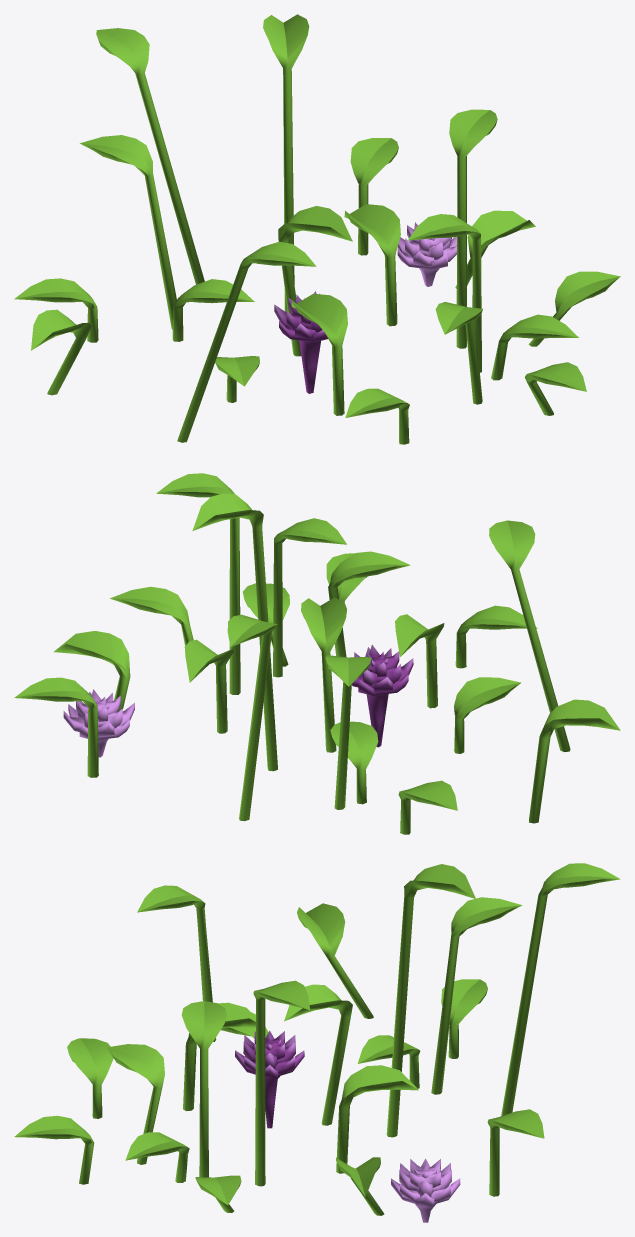
Rendered from Vegetacao-Meia-Noite-Tipo01.fbx.
3 renders of one model, top to bottom at view 1: azimuth 30°, elevation 25°; view 2: azimuth 150°, elevation 25°; view 3: azimuth 270°, elevation 25°, orthographic. The views are drawn at different scales.
Visible parts, largest first — view 1: Vegetacao-Meia-Noite-Tipo01; view 2: Vegetacao-Meia-Noite-Tipo01; view 3: Vegetacao-Meia-Noite-Tipo01.
Part boxes in pixels (<box>): Vegetacao-Meia-Noite-Tipo01: <box>14,14,620,444</box>; Vegetacao-Meia-Noite-Tipo01: <box>14,473,620,834</box>; Vegetacao-Meia-Noite-Tipo01: <box>14,863,620,1222</box>.
Size of the model in its own units: 85.39 by 43.17 by 83.66.
